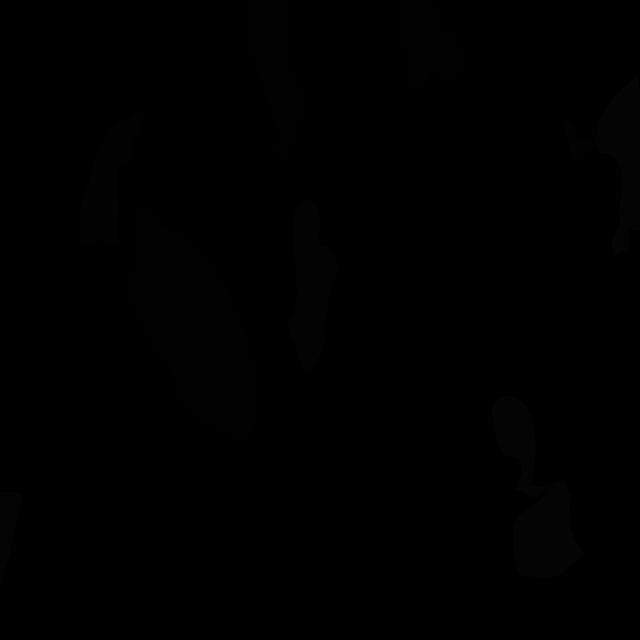cardboard: (79, 109, 146, 245), (562, 120, 597, 166)
metal: (287, 199, 338, 373)
rigid_plastic: (125, 205, 259, 442), (245, 0, 304, 168), (396, 0, 464, 92)
soft_plastic: (594, 74, 640, 256), (513, 479, 584, 579), (492, 395, 552, 497), (0, 492, 23, 588)
